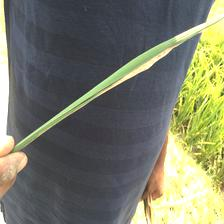2 BacterialBlight: (114, 44, 186, 82)
